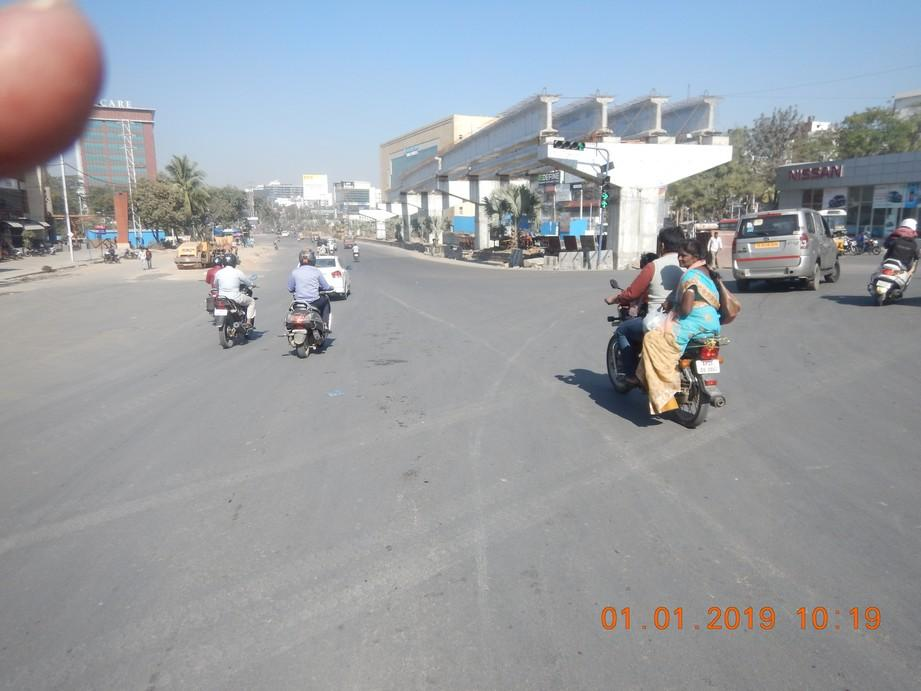plate: (695, 358, 721, 374)
